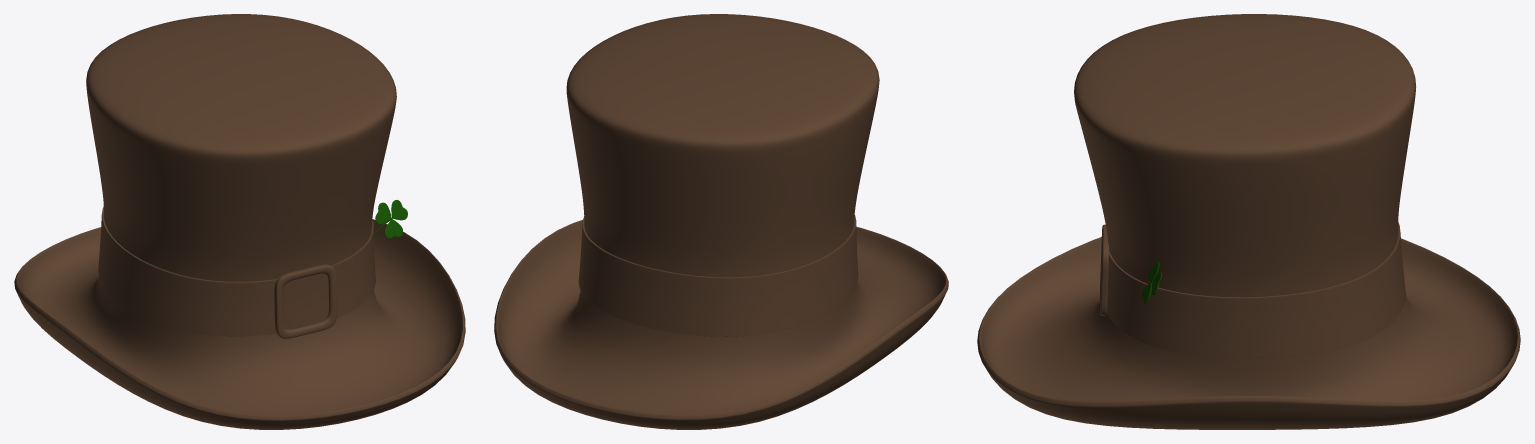
File: St.Patrick.fbx
3 views of the same model, side by side, from view 1: azimuth 30°, elevation 25°; view 2: azimuth 150°, elevation 25°; view 3: azimuth 270°, elevation 25° (orthographic). The views are drawn at different scales.
Visible parts, largest first — view 1: Cube.001; view 2: Cube.001; view 3: Cube.001.
Boxes of the visible parts, bbox=[...] form: Cube.001: bbox=[14, 14, 465, 429]; Cube.001: bbox=[494, 14, 948, 429]; Cube.001: bbox=[977, 14, 1520, 429].
Bounding box in the file's own units: 262 × 189 × 317.
